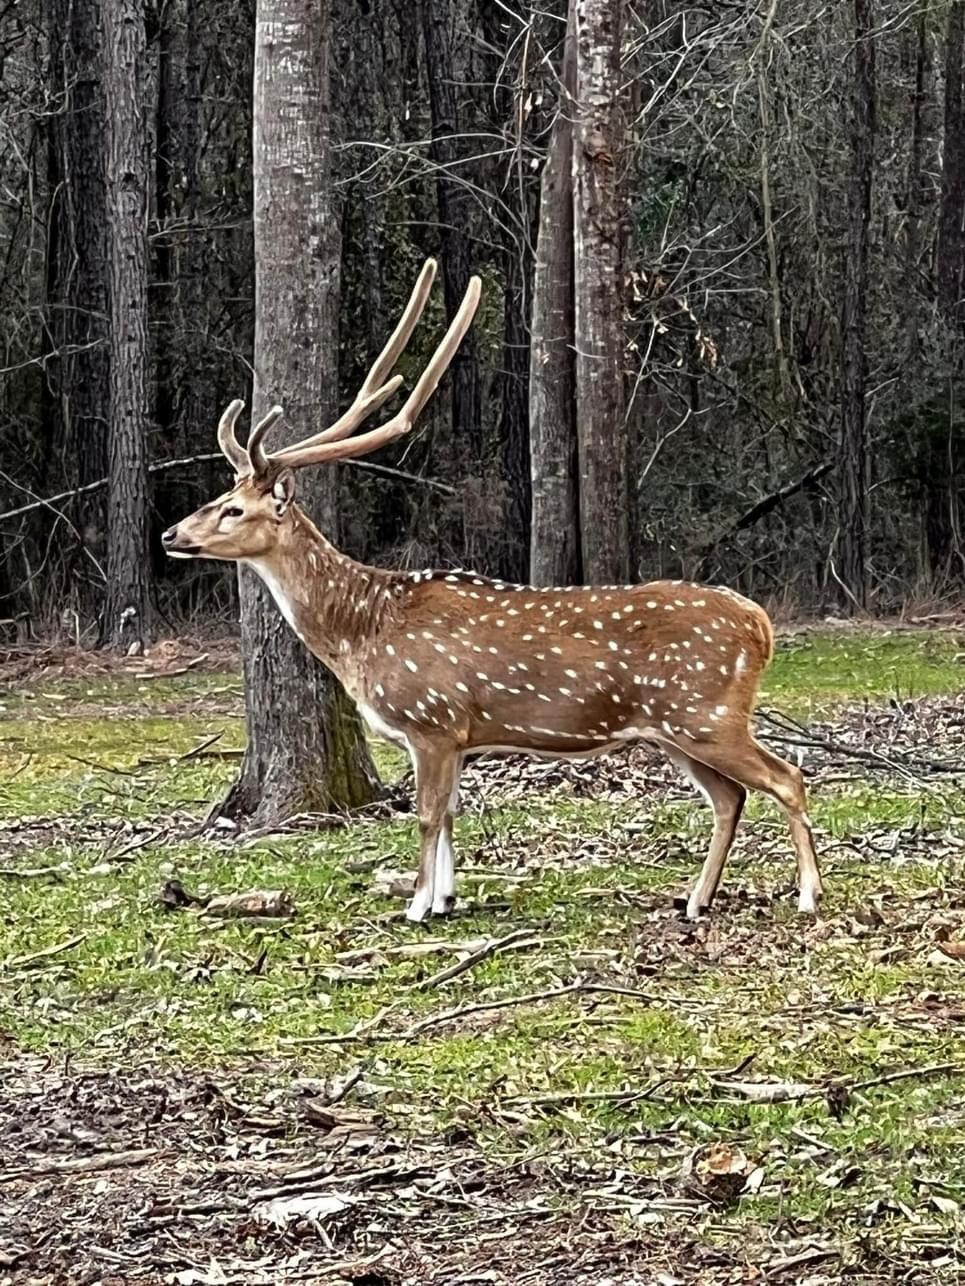Deer: (164, 261, 821, 922)
